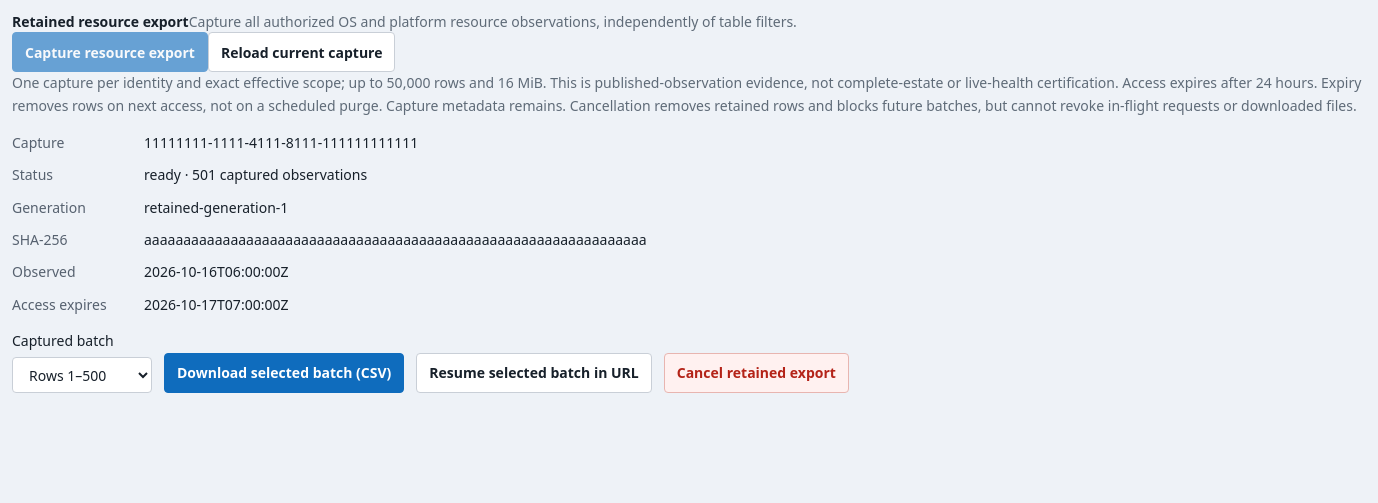
Test case: Retained inventory exports › rejects mismatched generation batch before download
The width and height of the screenshot is (1378, 503).
Check: the text "retained-generation-1" is shown, box [144,198,288,217]
Click the button "Download selected batch (CSV)": (284, 373) [164,353,404,393]
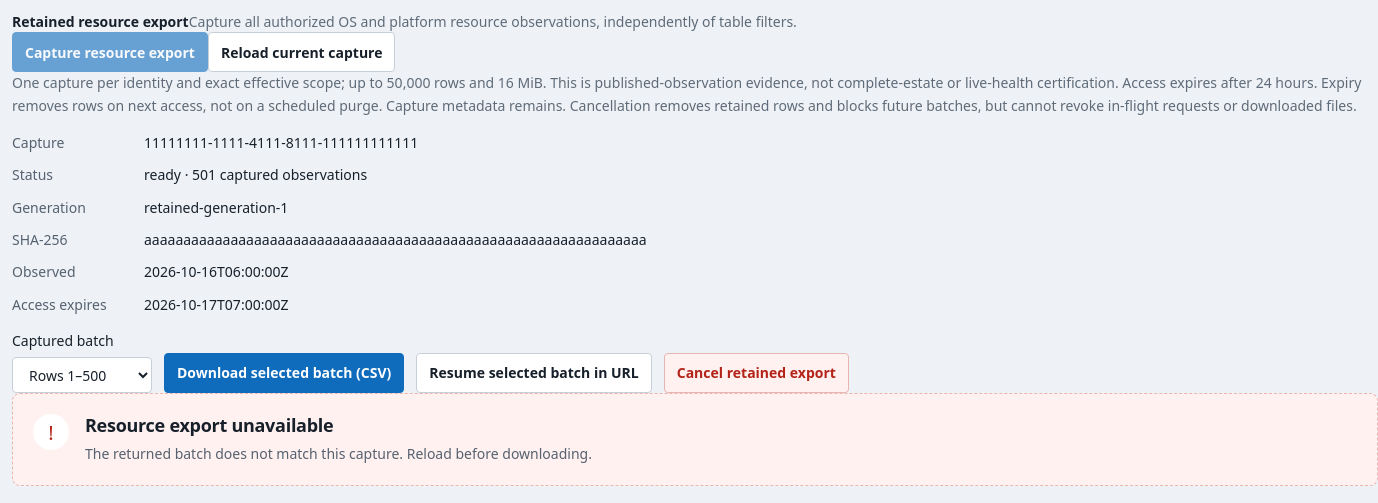
Check: the dropdown labelled "Captured batch" shows "Rows 1–500", box [12,357,152,393]
Check: the text "returned batch does not match" is shown, box [85,444,592,462]
